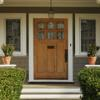stairs: (24, 83, 82, 100)
